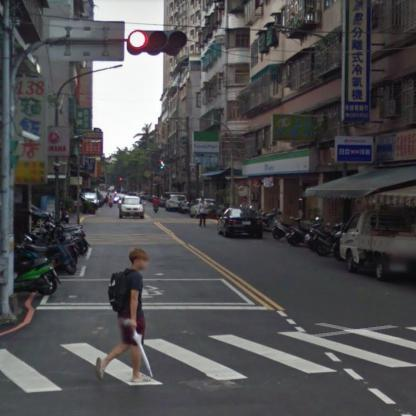Red Light: (127, 27, 188, 57)
